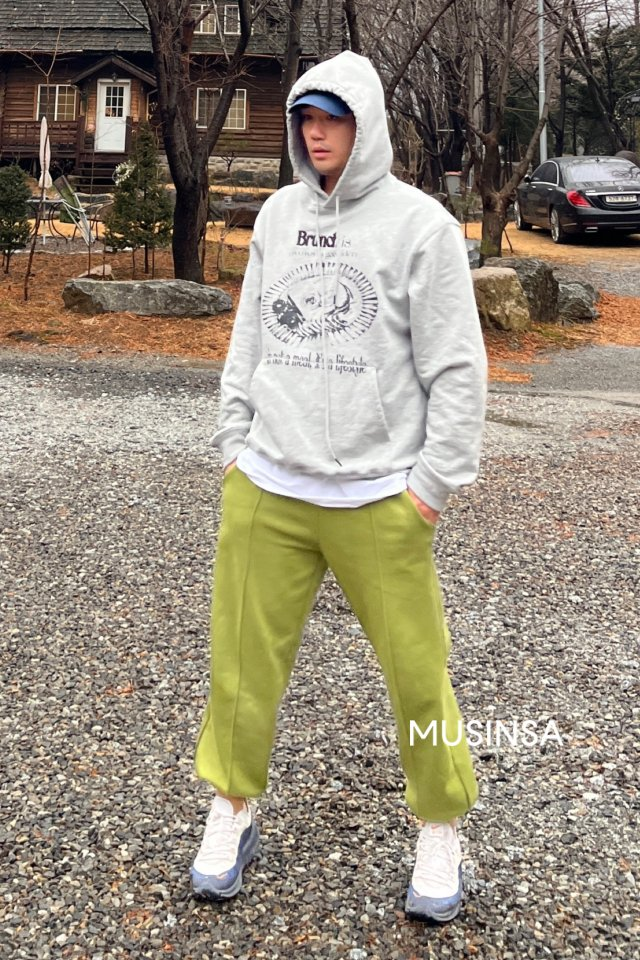Cap: (277, 88, 348, 119)
Hoodie: (215, 45, 487, 505)
Pants: (203, 462, 499, 827)
Shoes: (183, 794, 474, 927)
